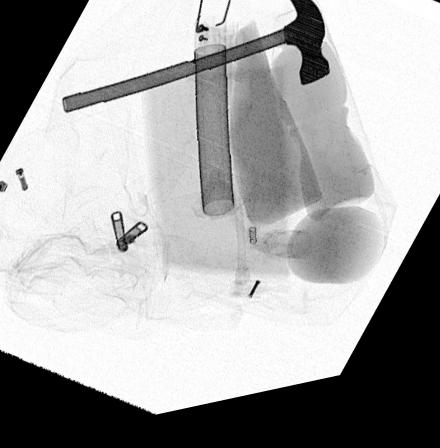Hammer: (63, 0, 331, 115)
